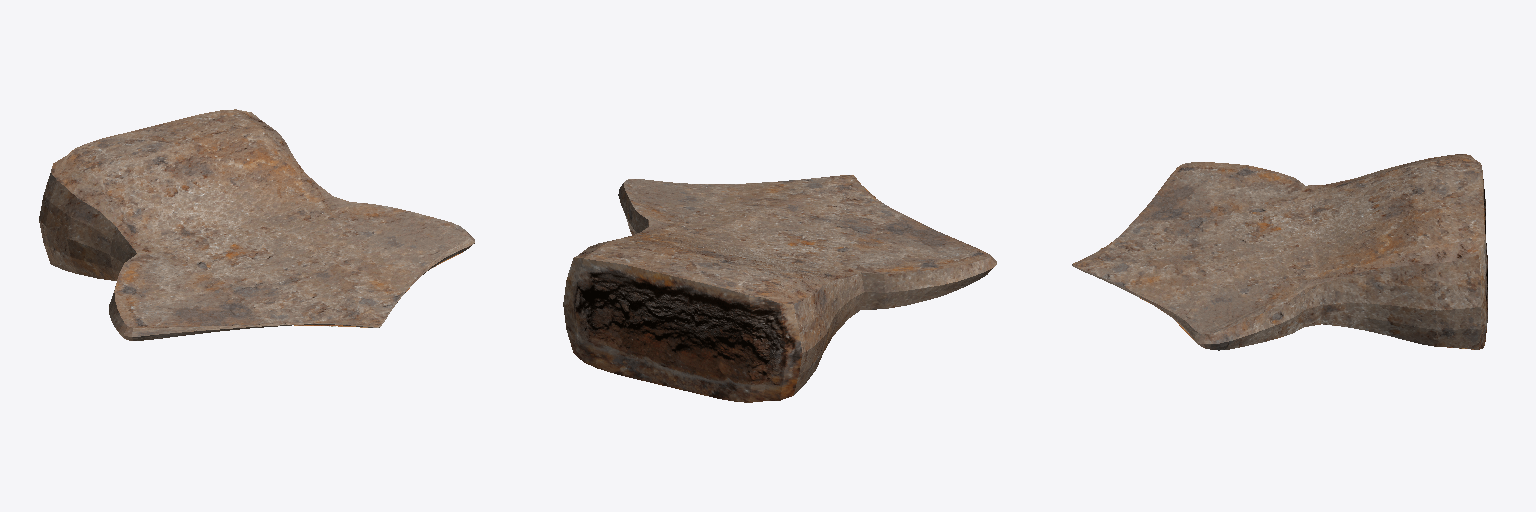
3 renders of one model, left to right at view 1: azimuth 30°, elevation 25°; view 2: azimuth 150°, elevation 25°; view 3: azimuth 270°, elevation 25°, orthographic.
Parts seen in each view (by area): view 1: pCube2; view 2: pCube2; view 3: pCube2.
Boxes of the visible parts, <box> form: pCube2: <box>39,109,474,340</box>; pCube2: <box>563,175,996,402</box>; pCube2: <box>1072,154,1487,350</box>.
Bounding box in the file's own units: 14.19 × 4.18 × 14.1.
Materials: 1 (1 with a texture image).